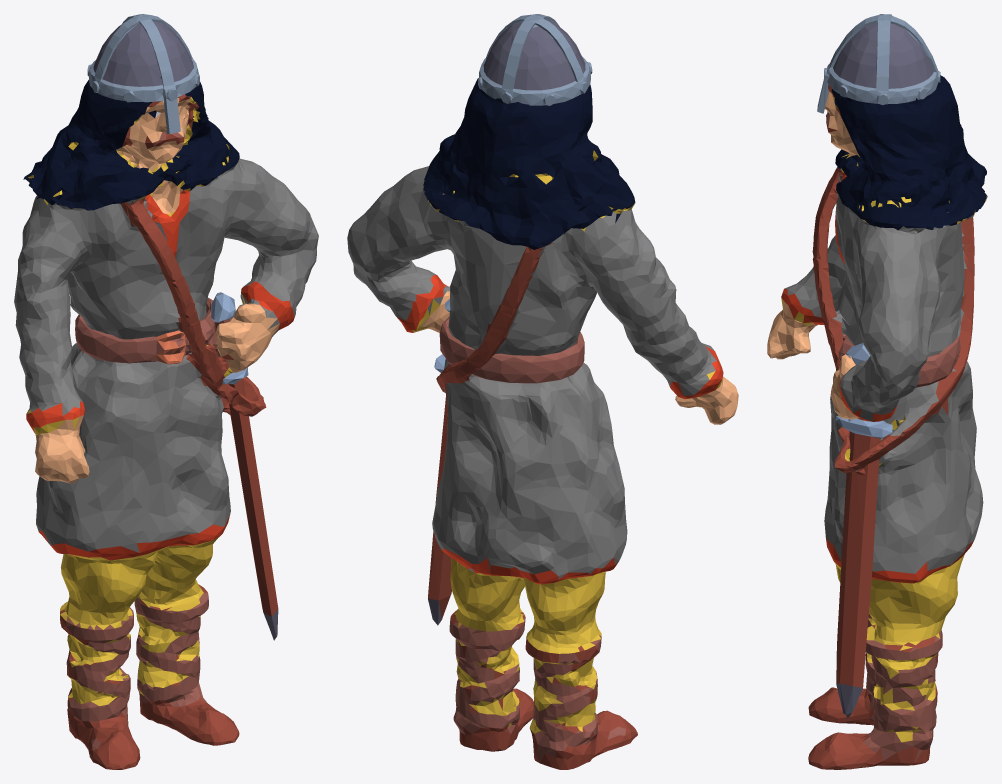
The model's file is MasterGuard_Olav.fbx.
3 views of the same model, side by side, from view 1: azimuth 30°, elevation 25°; view 2: azimuth 150°, elevation 25°; view 3: azimuth 270°, elevation 25° (orthographic).
Parts seen in each view (by area): view 1: MainBody; view 2: MainBody; view 3: MainBody.
Part boxes in pixels (x1,y1,x2,y2): MainBody: (14,14,318,769); MainBody: (347,14,738,769); MainBody: (767,14,987,769).
Bounding box in the file's own units: 1168 × 2414 × 670.
